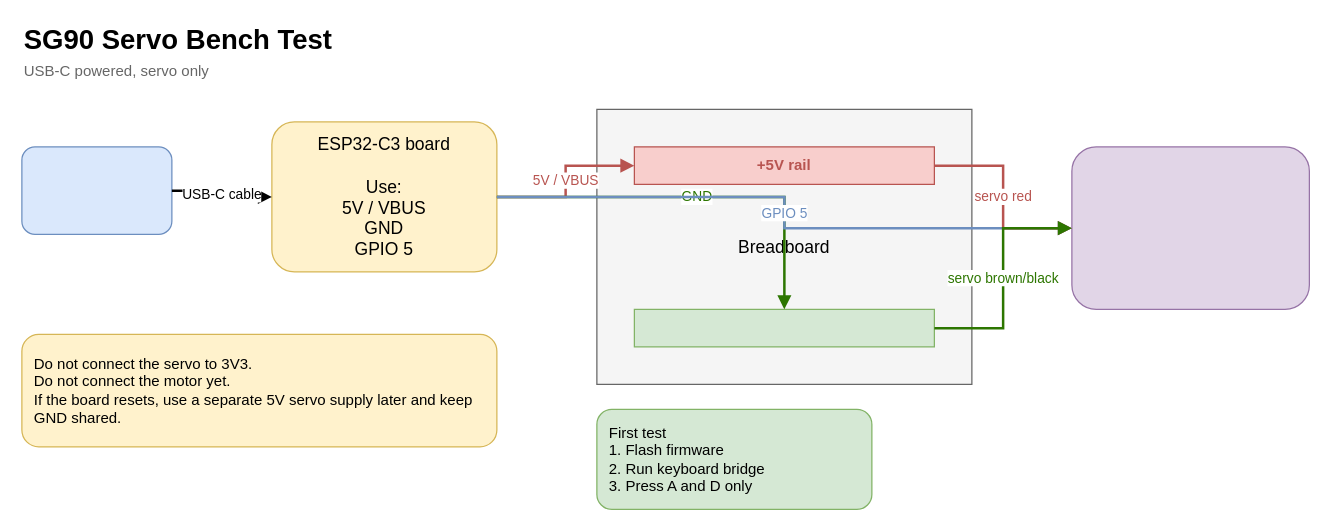
Some shapes in this 1331 by 531 pixel diagram are drawn without their labels. The centre of each missing label's shape, as x and y in pixels:
GND rail: (783,327)
Laptop USB host: (96,190)
SG90 servo red = +5V brown/black = GND orange/yellow = signal: (1190,227)
